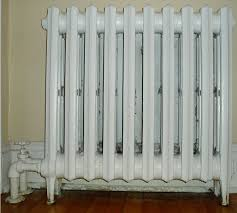Radiator: (12, 3, 234, 197)
